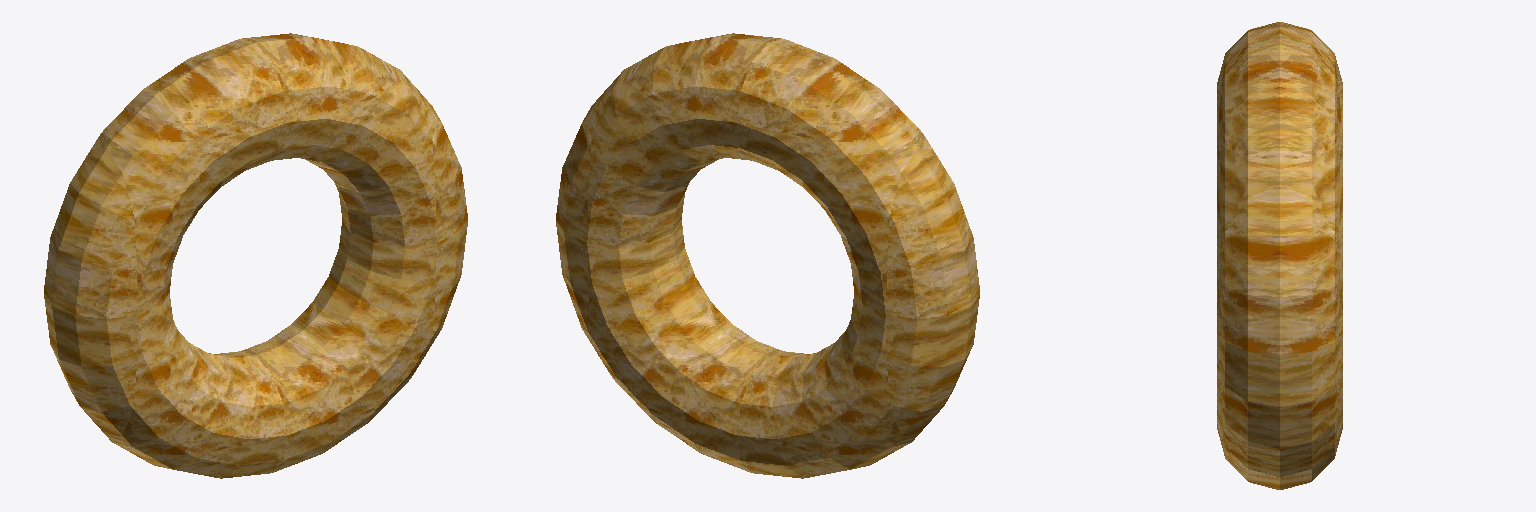
3 views of the same model, side by side, from view 1: azimuth 30°, elevation 25°; view 2: azimuth 150°, elevation 25°; view 3: azimuth 270°, elevation 25° (orthographic).
Parts seen in each view (by area): view 1: Torus01; view 2: Torus01; view 3: Torus01.
Part boxes in pixels (x1,y1,x2,y2): Torus01: (44, 33, 467, 478); Torus01: (556, 33, 979, 478); Torus01: (1217, 22, 1342, 489).
Size of the model in its own units: 2.73 by 2.73 by 0.731.
1 materials, 1 textured.